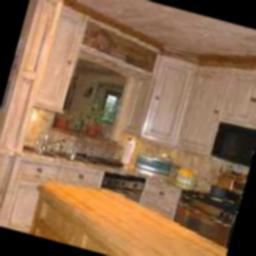Electrodomestico: (171, 192, 238, 247), (99, 168, 146, 201)
